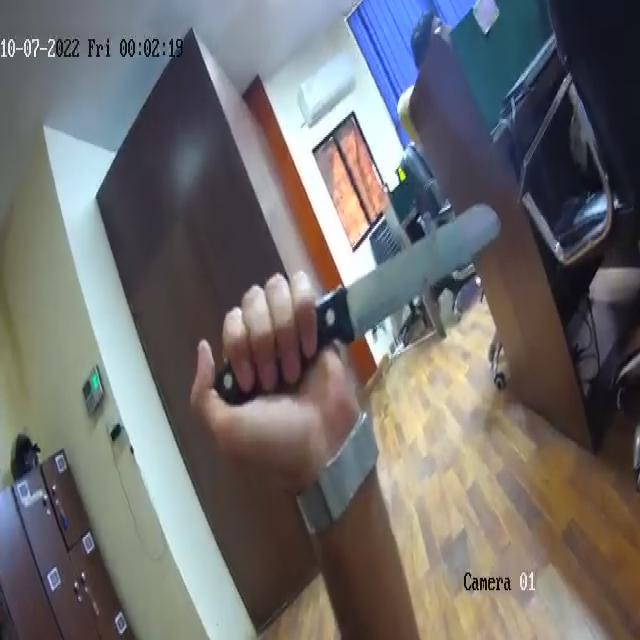Knife: (187, 197, 502, 441)
